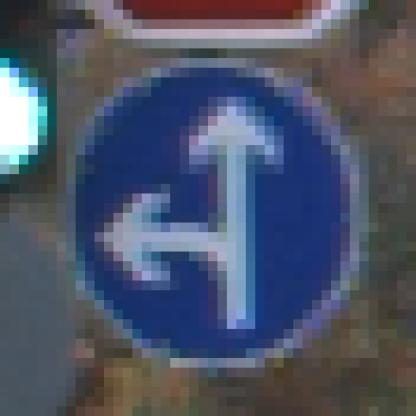Straight or Left: (58, 49, 370, 369)
